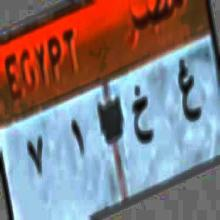1: (68, 109, 86, 173)
7: (26, 128, 50, 182)
ghayn: (172, 52, 202, 136)
khaa: (131, 79, 153, 164)
